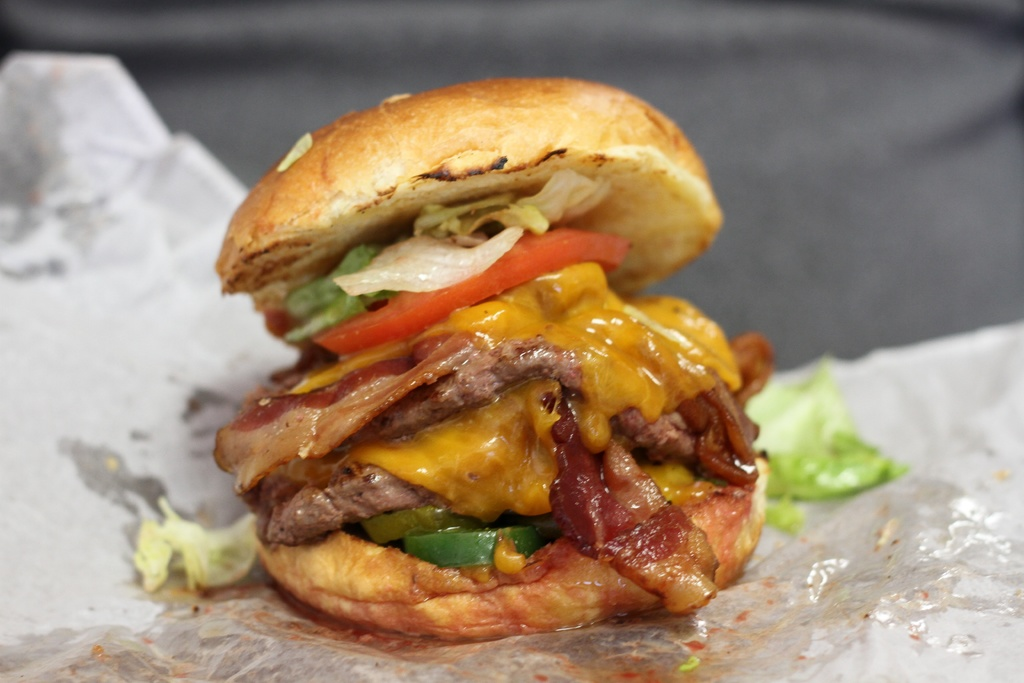Hamburger: (128, 74, 770, 631)
